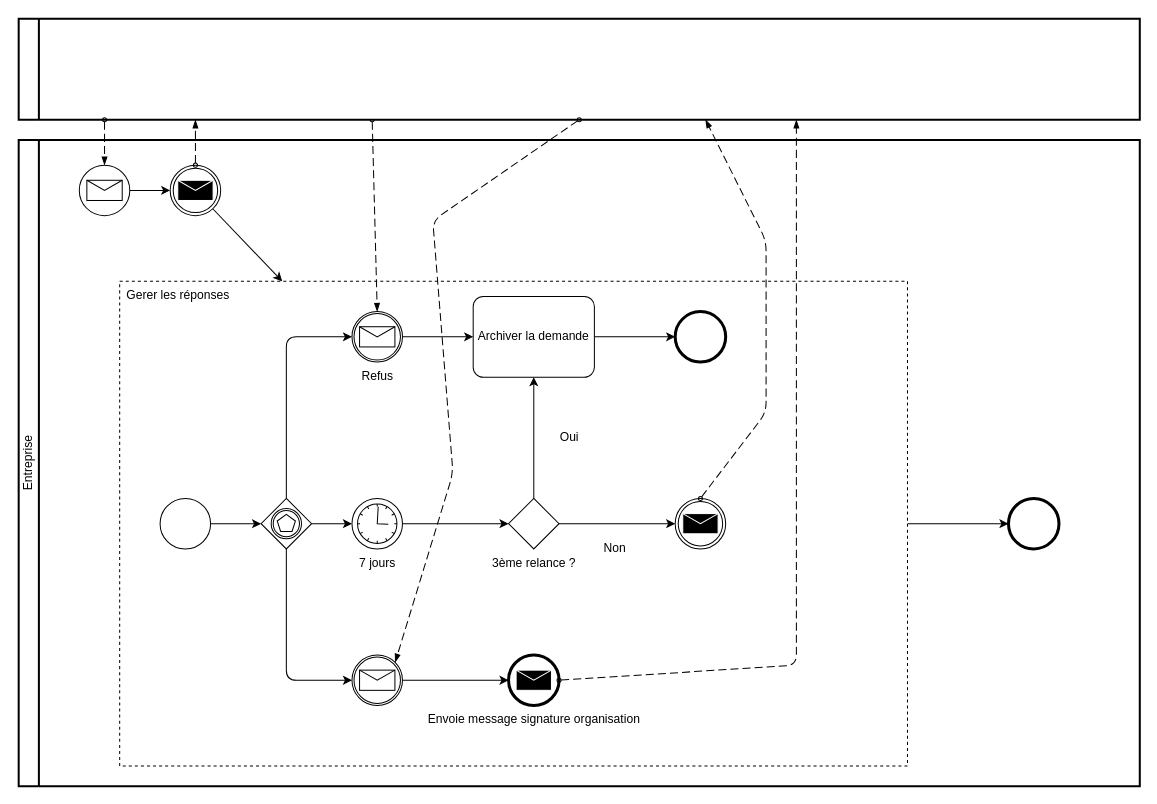
The diagram is 1157 pixels wide and 804 high, and some of its shapes have lost their labels. The shapes that lost their labels are listed below. From the top down, each one's centre as x and y in pixels, then its label:
At point (578, 68): "Client".
At point (104, 190): "Recevoir la demande".
At point (700, 523): "Relance".
At point (376, 679): "Accord".
